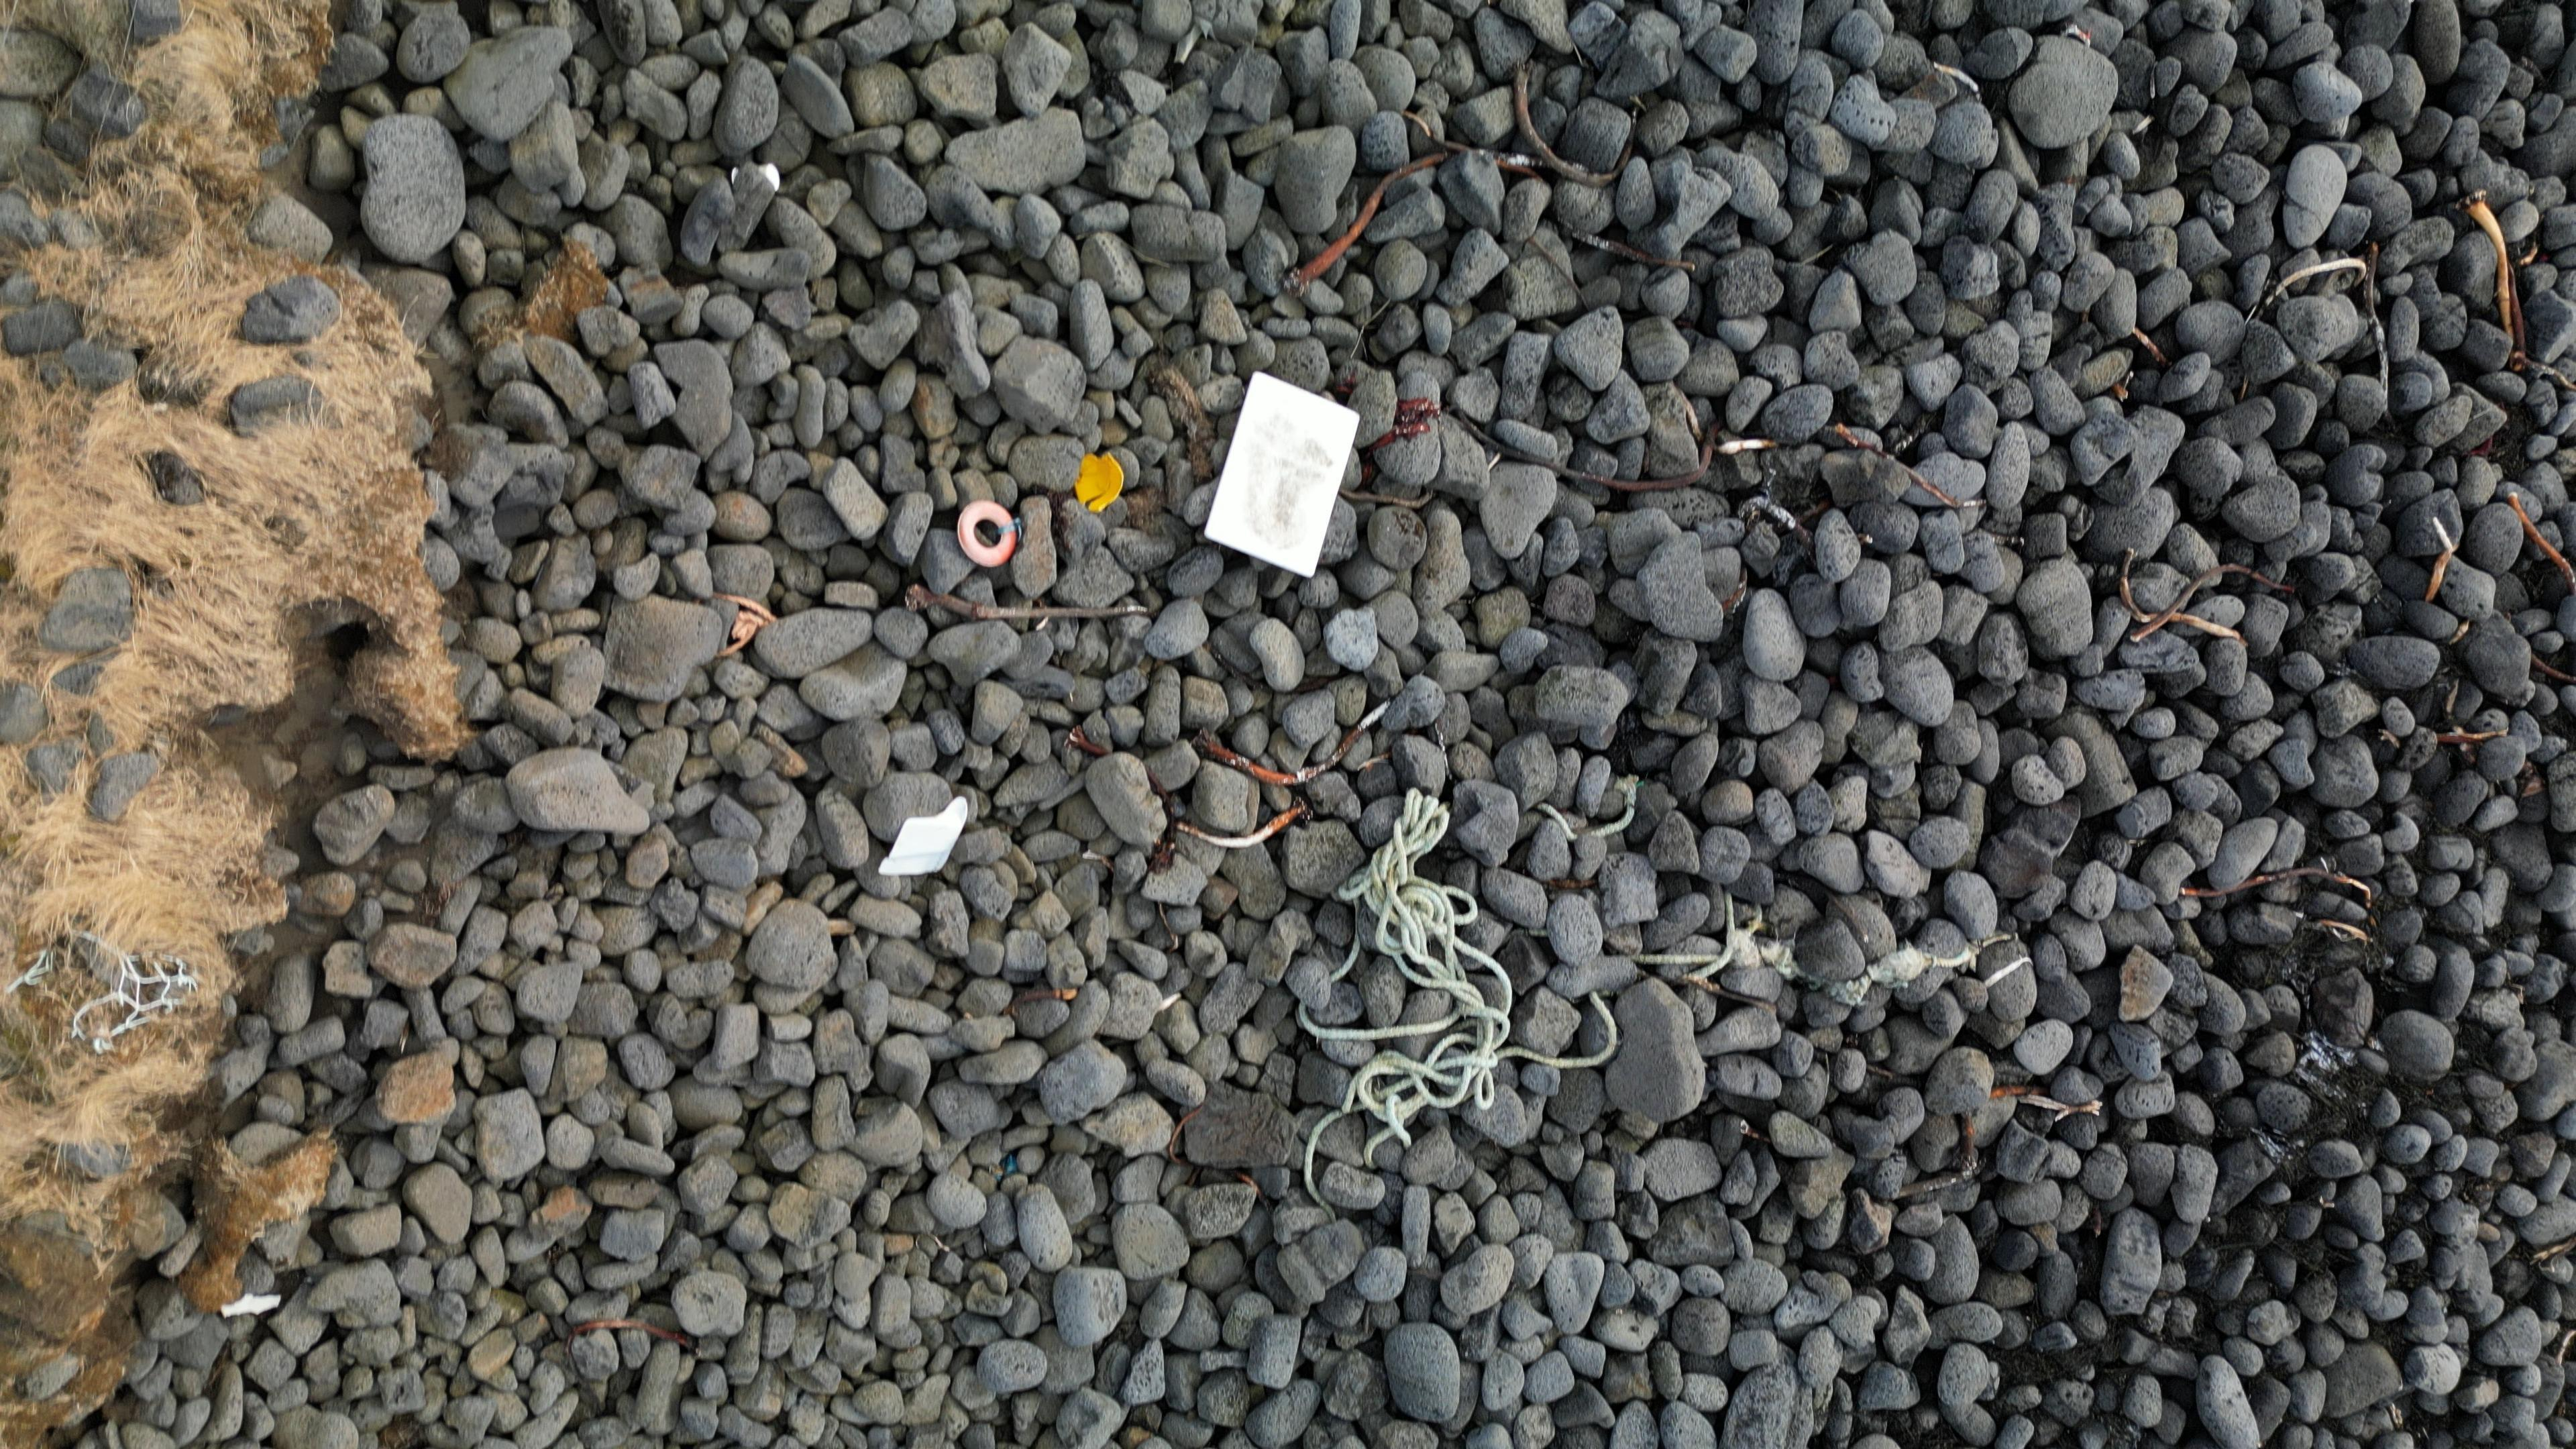trash: (1299, 789, 1621, 1203), (1203, 372, 1359, 579), (71, 931, 196, 1051), (881, 794, 971, 876), (955, 499, 1016, 568), (1072, 453, 1122, 513), (11, 950, 55, 991), (1591, 800, 1629, 840), (1334, 941, 1359, 977), (1545, 810, 1585, 830)
